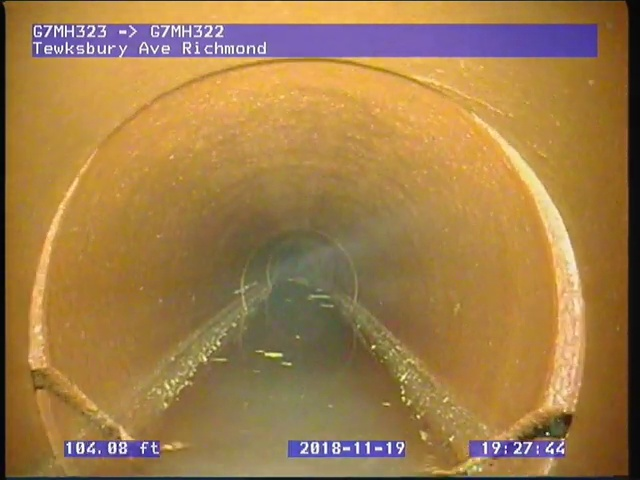crack: (30, 365, 191, 462), (425, 408, 577, 479)
